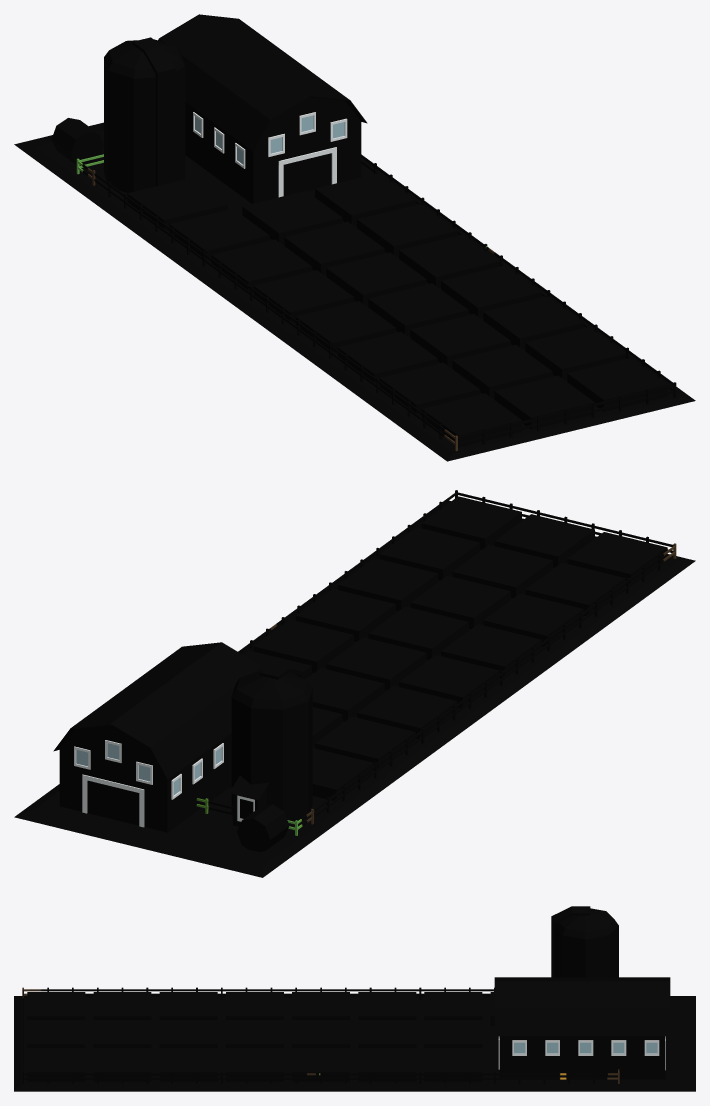
File: WheatFarm.fbx
3 renders of one model, top to bottom at view 1: azimuth 30°, elevation 25°; view 2: azimuth 150°, elevation 25°; view 3: azimuth 270°, elevation 25°, orthographic. The views are drawn at different scales.
Visible parts, largest first — view 1: WheatFarm; view 2: WheatFarm; view 3: WheatFarm.
Part boxes in pixels (box(x1,y1,x2,y2)): WheatFarm: box(14, 14, 695, 461); WheatFarm: box(14, 490, 695, 877); WheatFarm: box(14, 906, 695, 1091).
Bounding box in the file's own units: 1367 × 731 × 4122.
